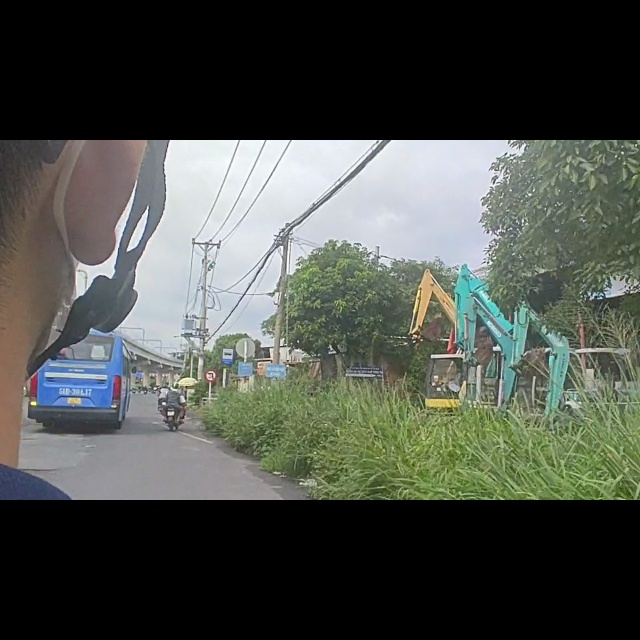bien_cam: (221, 369, 235, 399), (204, 408, 217, 430)
